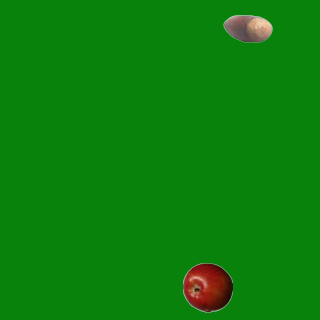Apple Braeburn: (182, 262, 232, 312)
Hazelnut: (222, 3, 272, 53)
